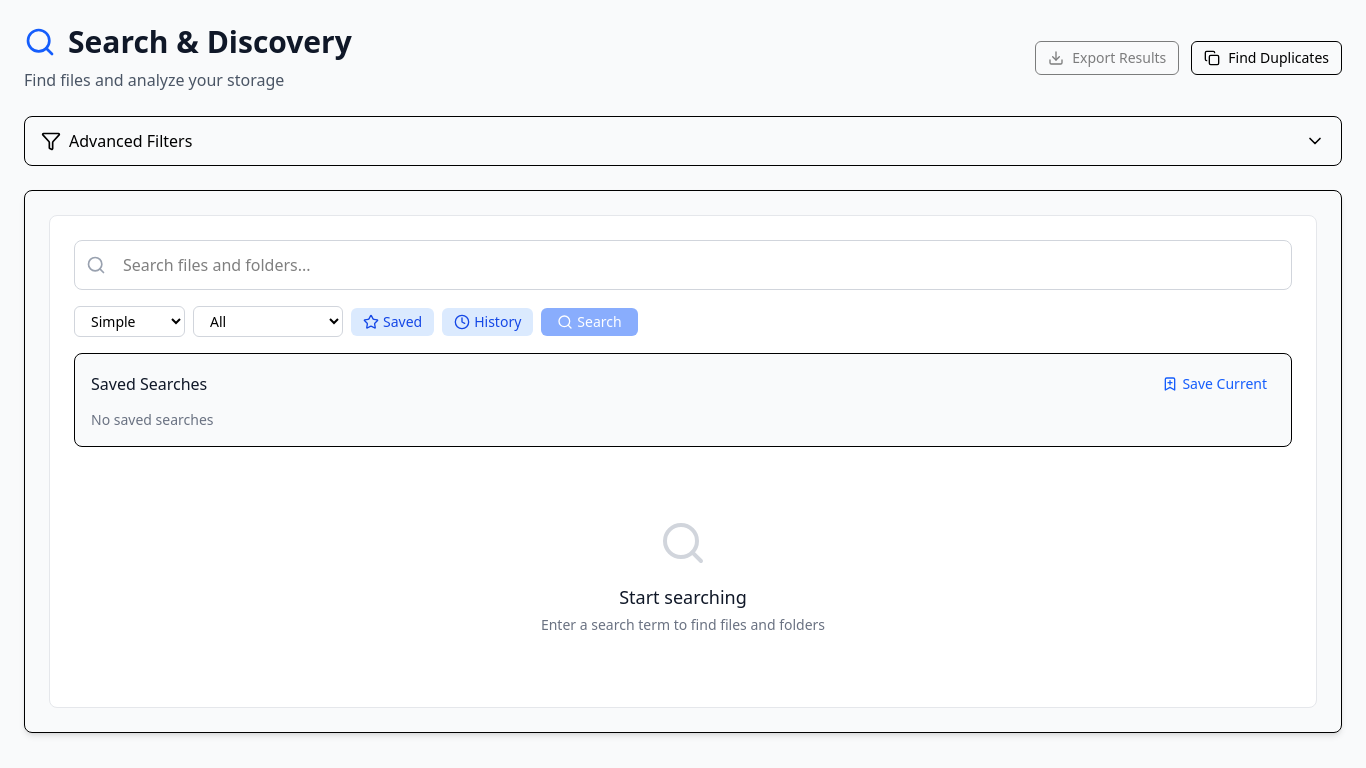
Test: SearchPage › Duplicate Detection Modal › closes when Close is clicked
Click the button "Find Duplicates". click: (1267, 58)
box: [1191,41,1342,75]
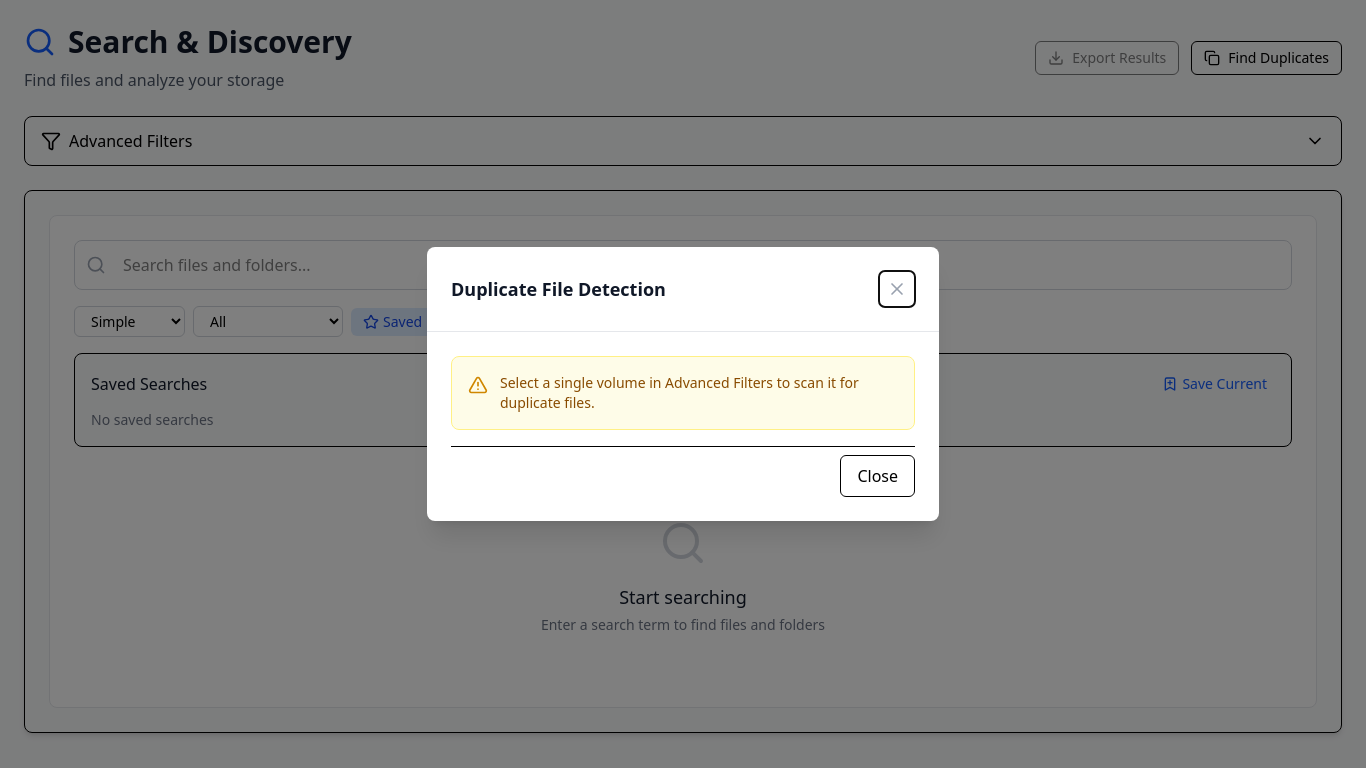
Expected: the heading "Duplicate File Detection" is shown, [451,277,666,301]
Click the button "Close". click: (878, 476)
box: [840,455,915,497]
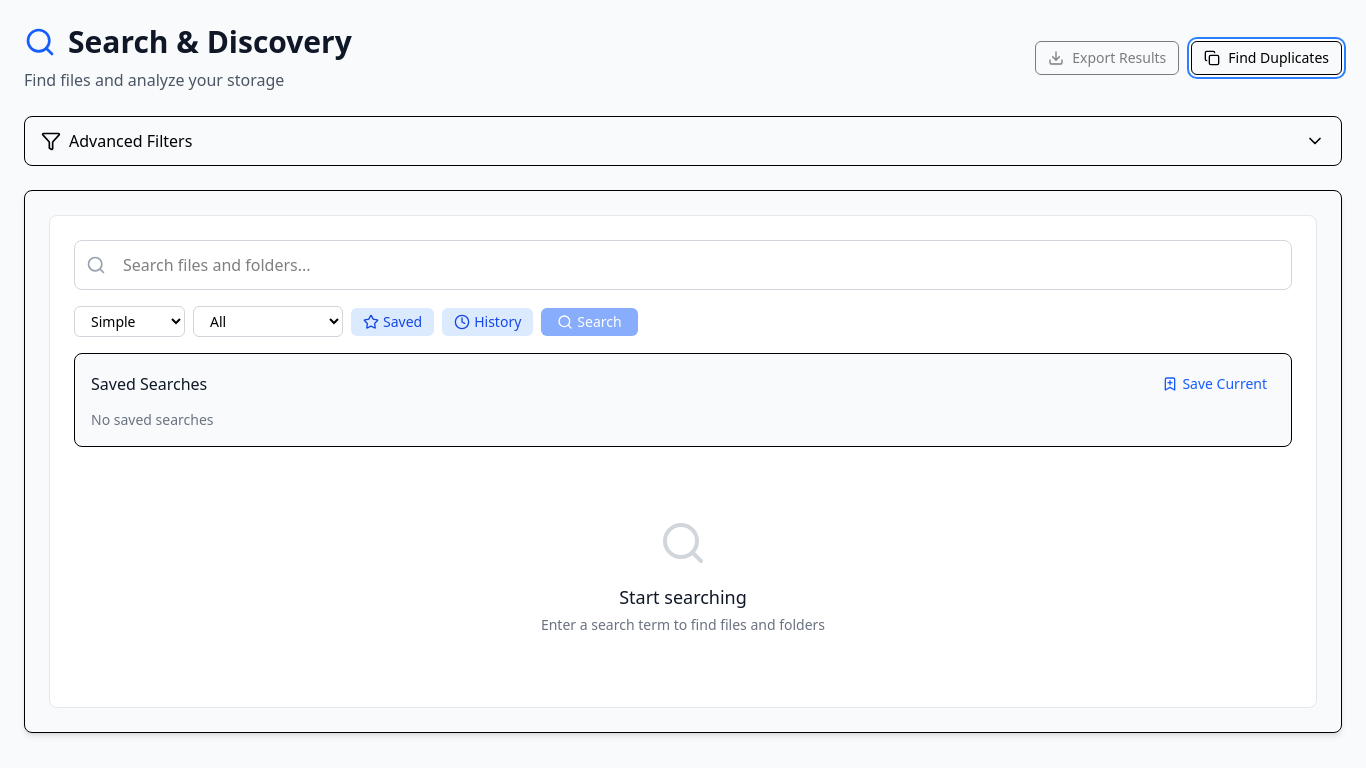
Expected: the heading "Duplicate File Detection" is gone
